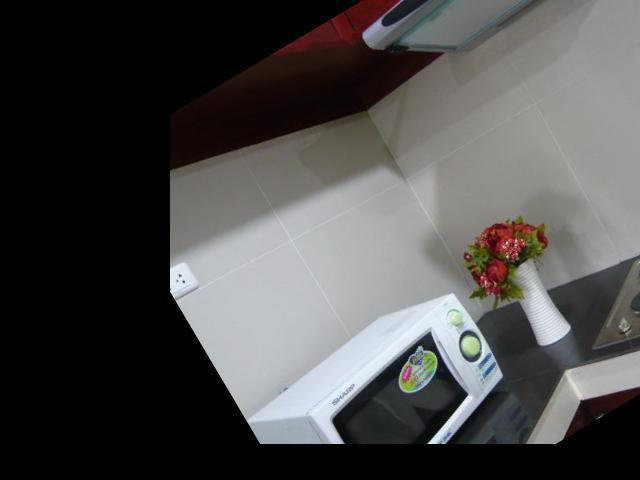Electrodomestico: (246, 289, 519, 480), (556, 196, 640, 384)
